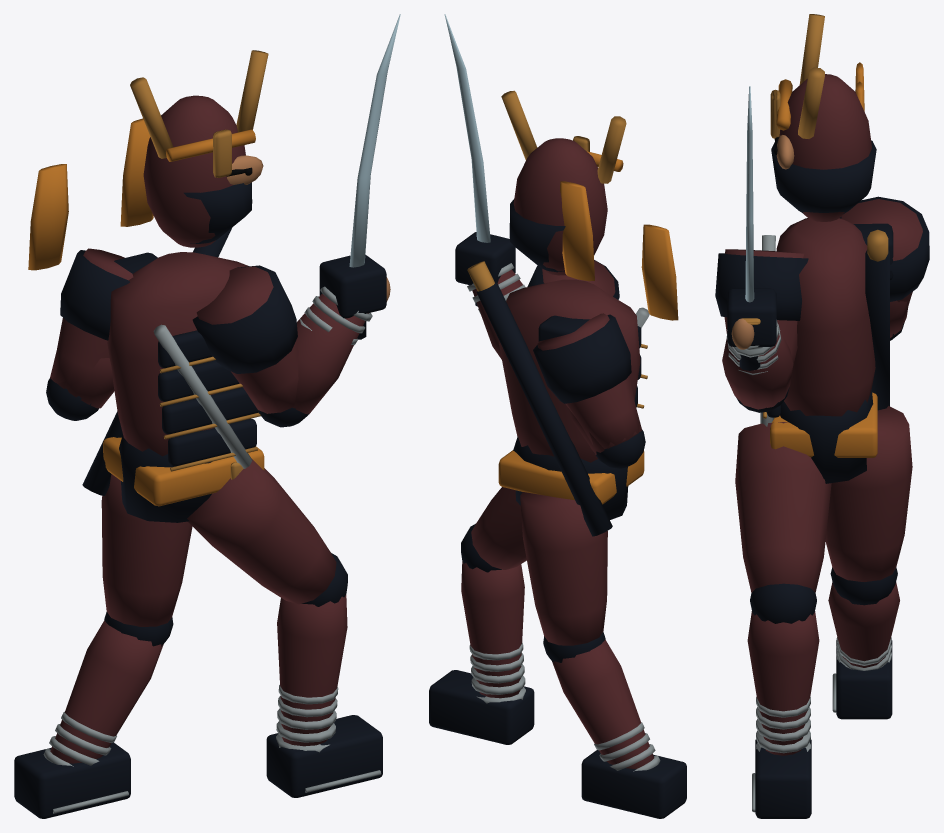
File: abbot.glb
The picture shows the model from 3 angles, left to right: view 1: azimuth 30°, elevation 25°; view 2: azimuth 150°, elevation 25°; view 3: azimuth 270°, elevation 25°; orthographic projection. The views are drawn at different scales.
Parts seen in each view (by area): view 1: abbot__torso_mesh, abbot__head_mesh, abbot__thighF_mesh, abbot__upperArmF_mesh, abbot__thighB_mesh, abbot__shinF_mesh, abbot__shinB_mesh, abbot__upperArmB_mesh, abbot__footF_mesh, abbot__footB_mesh, abbot__forearmF_mesh, abbot__scarfB_mesh (+5 smaller); view 2: abbot__torso_mesh, abbot__thighB_mesh, abbot__head_mesh, abbot__upperArmB_mesh, abbot__shinF_mesh, abbot__shinB_mesh, abbot__footF_mesh, abbot__footB_mesh, abbot__thighF_mesh, abbot__scarfB_mesh, abbot__scarfA_mesh, abbot__sword_mesh (+5 smaller); view 3: abbot__torso_mesh, abbot__thighF_mesh, abbot__head_mesh, abbot__thighB_mesh, abbot__shinF_mesh, abbot__upperArmF_mesh, abbot__upperArmB_mesh, abbot__shinB_mesh, abbot__footF_mesh, abbot__forearmF_mesh, abbot__pelvis_mesh, abbot__footB_mesh (+4 smaller).
Part boxes in pixels (left/top/right/bottom): abbot__torso_mesh: left=82, top=228, right=264, bottom=506; abbot__head_mesh: left=130, top=50, right=268, bottom=247; abbot__thighF_mesh: left=187, top=459, right=347, bottom=606; abbot__upperArmF_mesh: left=192, top=265, right=308, bottom=427; abbot__thighB_mesh: left=101, top=474, right=192, bottom=646; abbot__shinF_mesh: left=276, top=594, right=347, bottom=752; abbot__shinB_mesh: left=43, top=620, right=163, bottom=766; abbot__upperArmB_mesh: left=46, top=248, right=133, bottom=420; abbot__footF_mesh: left=266, top=715, right=382, bottom=797; abbot__footB_mesh: left=14, top=742, right=130, bottom=818; abbot__forearmF_mesh: left=292, top=286, right=372, bottom=414; abbot__scarfB_mesh: left=28, top=164, right=68, bottom=270; abbot__torso_mesh: left=467, top=261, right=649, bottom=536; abbot__thighB_mesh: left=520, top=492, right=607, bottom=662; abbot__head_mesh: left=501, top=90, right=626, bottom=275; abbot__upperArmB_mesh: left=533, top=313, right=645, bottom=468; abbot__shinF_mesh: left=461, top=561, right=525, bottom=703; abbot__shinB_mesh: left=552, top=639, right=660, bottom=771; abbot__footF_mesh: left=429, top=670, right=534, bottom=744; abbot__footB_mesh: left=581, top=750, right=686, bottom=818; abbot__thighF_mesh: left=461, top=487, right=526, bottom=572; abbot__scarfB_mesh: left=641, top=224, right=678, bottom=320; abbot__scarfA_mesh: left=560, top=181, right=594, bottom=281; abbot__sword_mesh: left=444, top=14, right=490, bottom=306; abbot__torso_mesh: left=760, top=218, right=889, bottom=457; abbot__thighF_mesh: left=735, top=422, right=831, bottom=623; abbot__head_mesh: left=770, top=14, right=876, bottom=221; abbot__thighB_mesh: left=825, top=406, right=912, bottom=605; abbot__shinF_mesh: left=747, top=611, right=819, bottom=755; abbot__upperArmF_mesh: left=715, top=249, right=808, bottom=412; abbot__upperArmB_mesh: left=840, top=196, right=929, bottom=340; abbot__shinB_mesh: left=828, top=582, right=899, bottom=670; abbot__footF_mesh: left=752, top=739, right=811, bottom=818; abbot__forearmF_mesh: left=722, top=319, right=793, bottom=409; abbot__pelvis_mesh: left=780, top=389, right=873, bottom=483; abbot__footB_mesh: left=832, top=640, right=892, bottom=719.
Size of the model in its own units: 1.57 by 3.64 by 0.9552.
